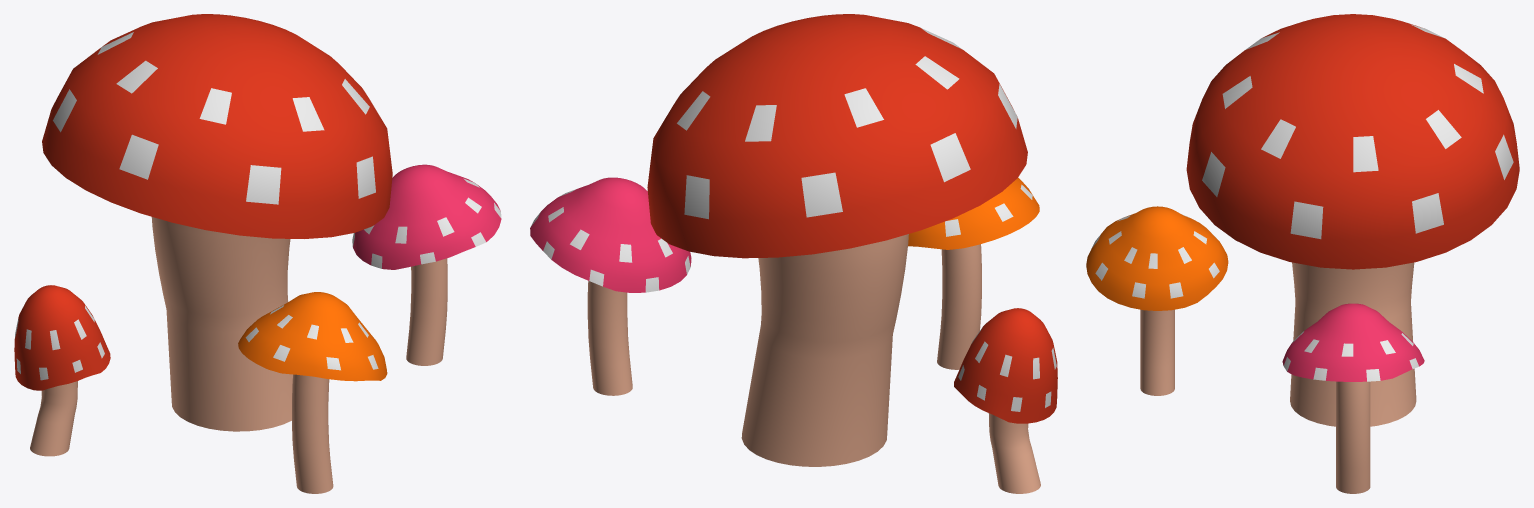
The model's file is PFE-Props-Champignon.fbx.
3 views of the same model, side by side, from view 1: azimuth 30°, elevation 25°; view 2: azimuth 150°, elevation 25°; view 3: azimuth 270°, elevation 25° (orthographic). The views are drawn at different scales.
Parts seen in each view (by area): view 1: Cylinder.005; view 2: Cylinder.005; view 3: Cylinder.005.
Boxes of the visible parts, x1,y1,x2,y2 form: Cylinder.005: (14, 14, 501, 493); Cylinder.005: (530, 14, 1057, 493); Cylinder.005: (1086, 14, 1519, 493).
Size of the model in its own units: 39.89 by 30.64 by 33.77.
